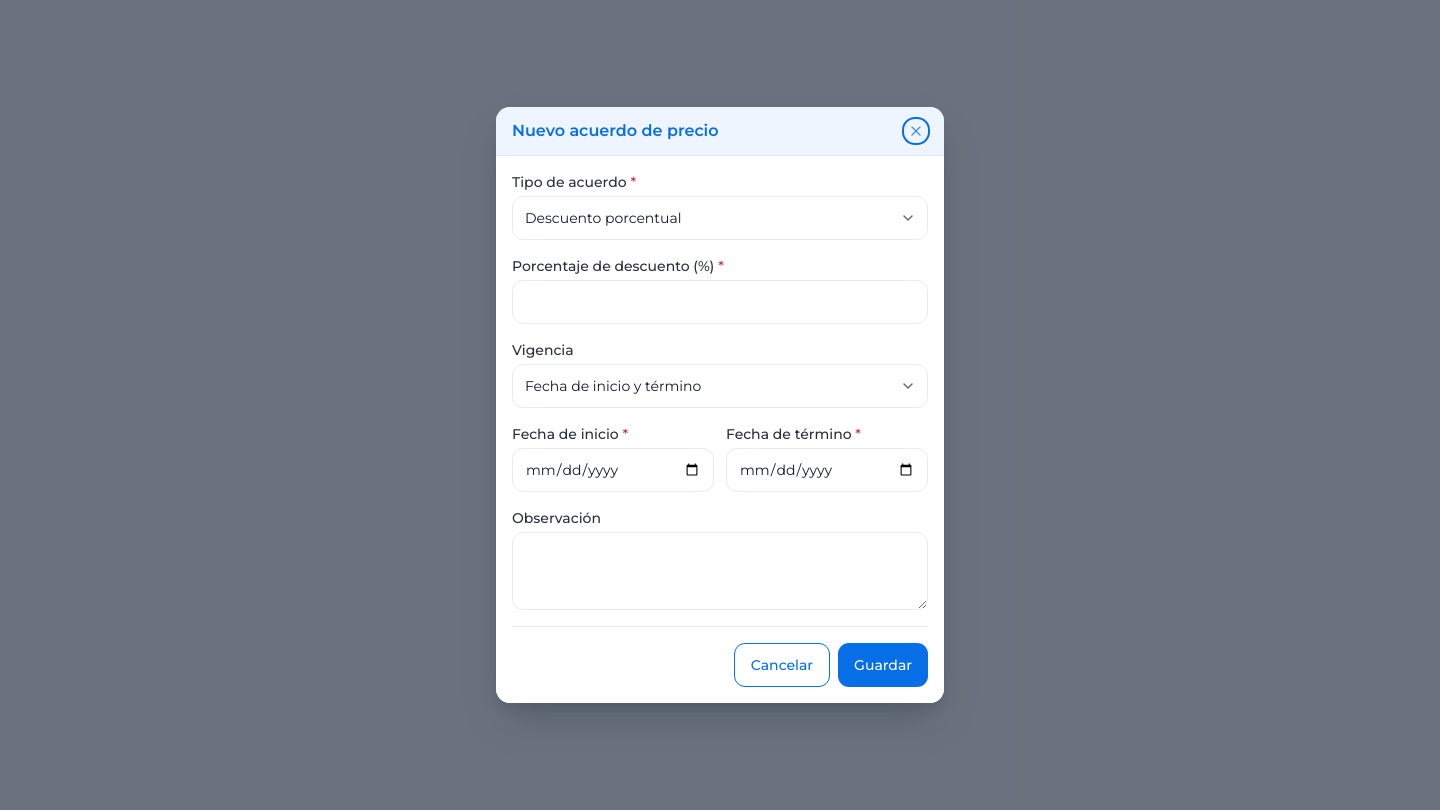
Scenario: FormularioAcuerdo — campos condicionales por tipo › DESCUENTO_MONTO muestra el selector de moneda, obligatorio
Select "Descuento por monto" in the dropdown labelled "Tipo de acuerdo *" at x=720, y=218, box [512,196,928,240]
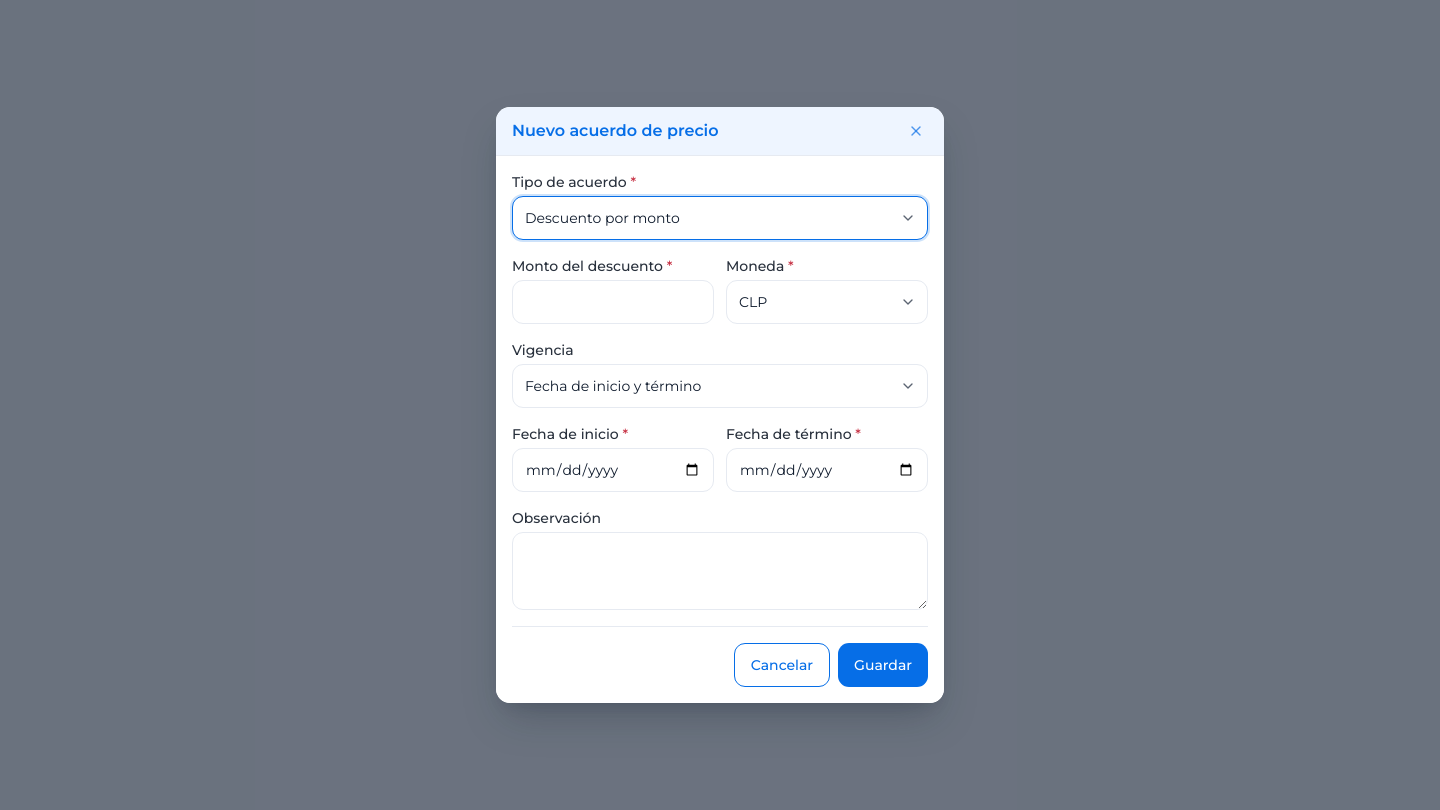
Now the dropdown labelled "Moneda *" is shown, box [726,280,928,324]
